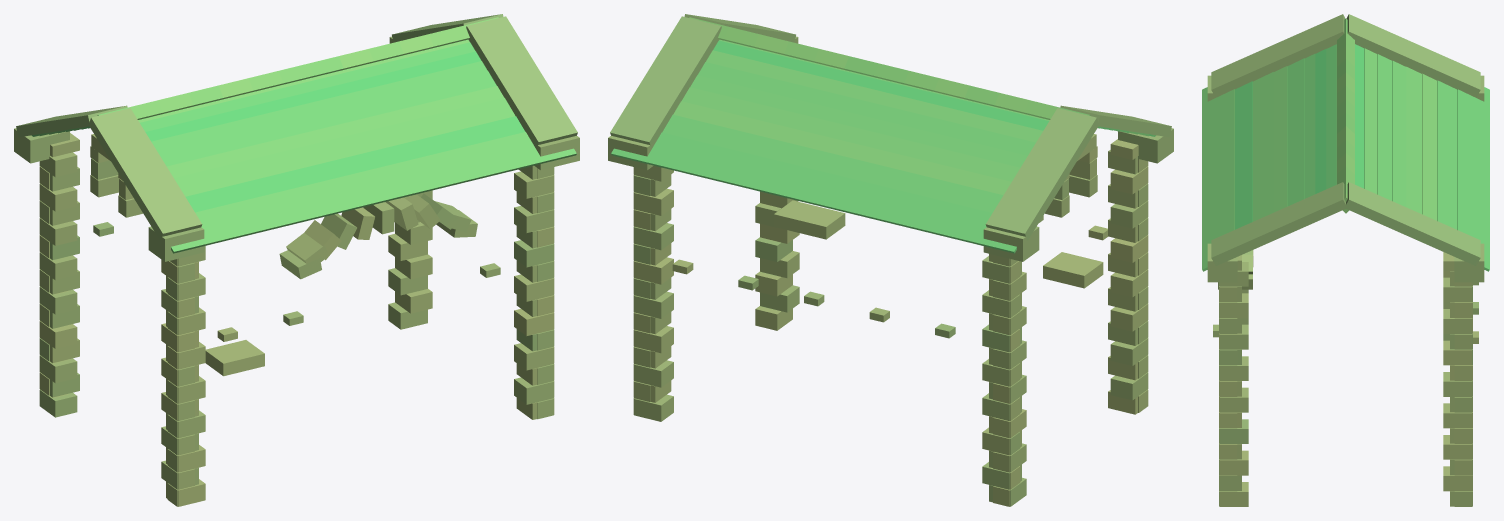
Rendered from SM_Bld_000_Stone.glb.
3 views of the same model, side by side, from view 1: azimuth 30°, elevation 25°; view 2: azimuth 150°, elevation 25°; view 3: azimuth 270°, elevation 25° (orthographic). The views are drawn at different scales.
Visible parts, largest first — view 1: SM_Bld_000_Stone; view 2: SM_Bld_000_Stone; view 3: SM_Bld_000_Stone.
Part boxes in pixels (x1=…): SM_Bld_000_Stone: x1=14, y1=14, x2=579, y2=506; SM_Bld_000_Stone: x1=608, y1=14, x2=1173, y2=506; SM_Bld_000_Stone: x1=1202, y1=14, x2=1489, y2=506.
Bounding box in the file's own units: 7.59 × 6.02 × 4.97.
